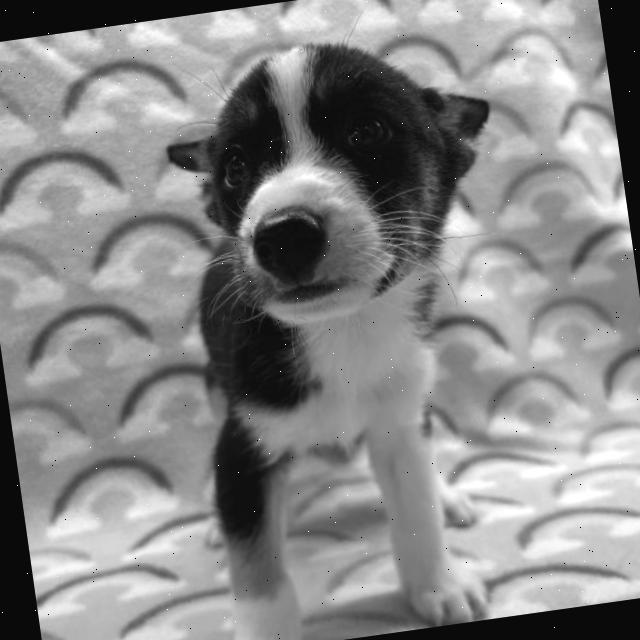siberian_husky_dog: (137, 8, 526, 366)
